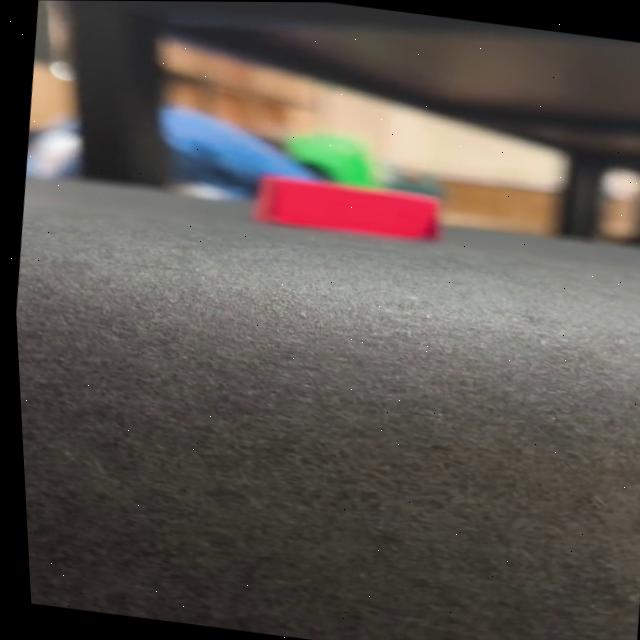red block: (247, 168, 445, 245)
